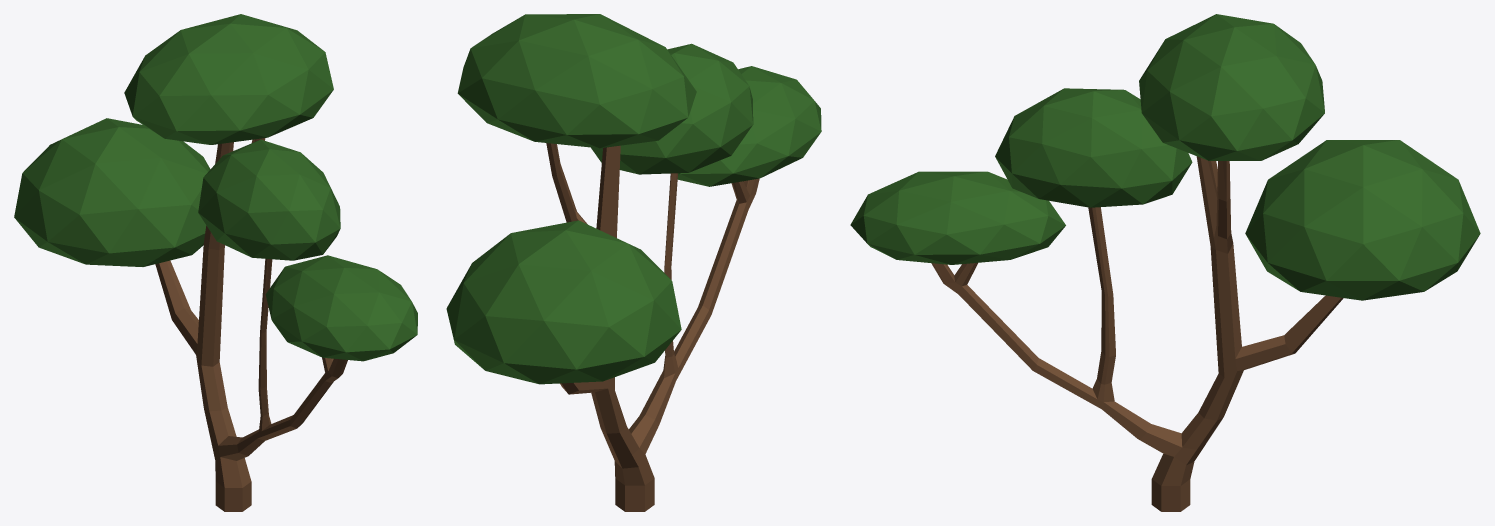
Rendered from Tree_3.fbx.
3 views of the same model, side by side, from view 1: azimuth 30°, elevation 25°; view 2: azimuth 150°, elevation 25°; view 3: azimuth 270°, elevation 25° (orthographic). The views are drawn at different scales.
Visible parts, largest first — view 1: Tree 3; view 2: Tree 3; view 3: Tree 3.
Boxes of the visible parts, box(x1,y1,x2,y2) form: Tree 3: box(14, 14, 417, 511); Tree 3: box(446, 14, 821, 511); Tree 3: box(850, 14, 1480, 511).
Size of the model in its own units: 170 by 308 by 359.
